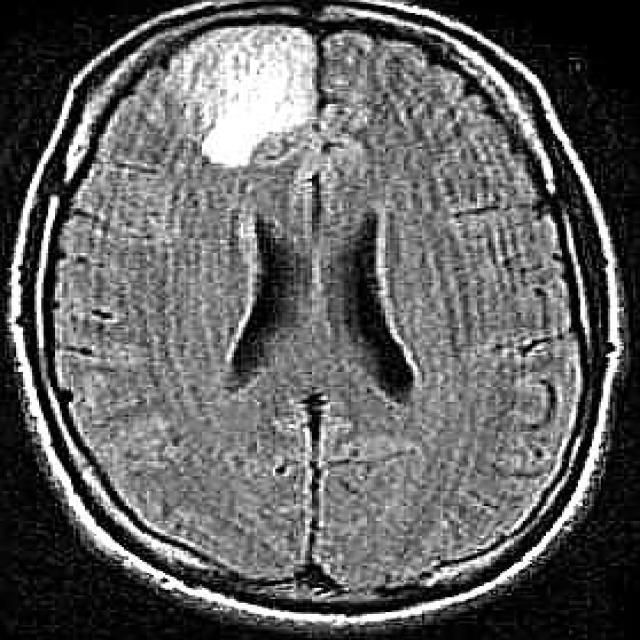Tumor-Cell: (152, 55, 357, 146)
